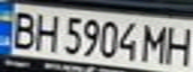0: (100, 18, 121, 60)
4: (115, 19, 142, 63)
5: (60, 14, 84, 56)
9: (78, 16, 103, 57)
B: (6, 8, 42, 51)
H: (30, 10, 63, 53), (163, 22, 193, 68)
M: (139, 20, 172, 64)
